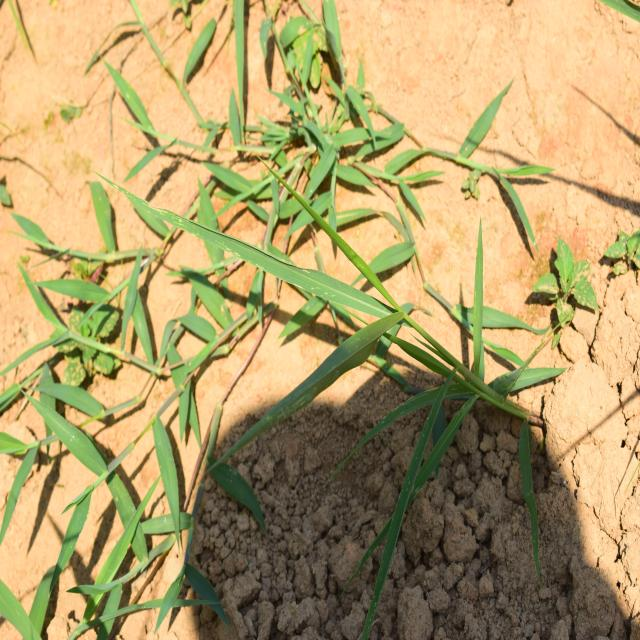green_foxtail: (239, 218, 516, 540)
